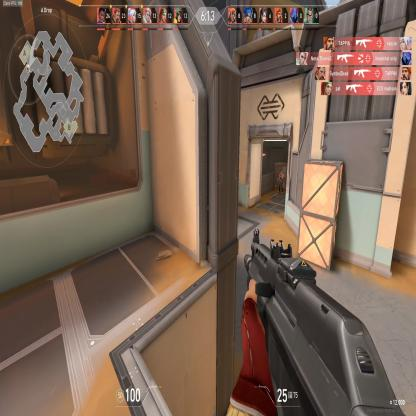enemy: (278, 170, 284, 194)
